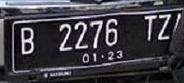2: (73, 20, 90, 51), (57, 22, 73, 51)
6: (104, 16, 119, 50)
7: (90, 18, 104, 50)
B: (19, 26, 36, 57)
T: (143, 14, 157, 42)
Z: (156, 14, 172, 42)
